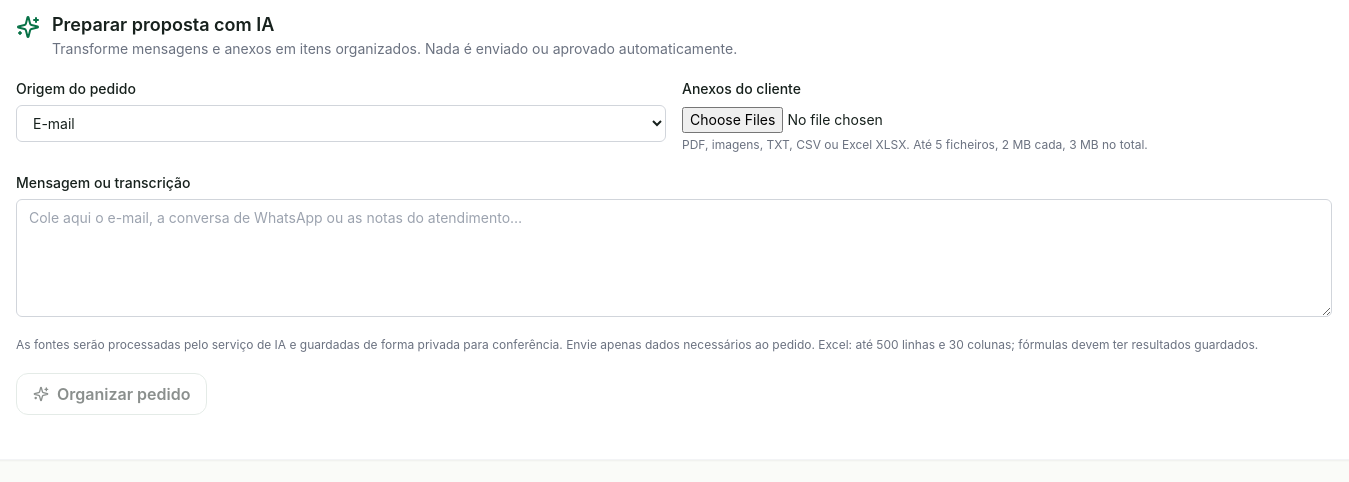
Scenario: ProposalAssistant › keeps the manual path available if AI is not configured
Replace the text in the text box labelled "Mensagem ou transcrição" with "200 cartões" at (674,258), box left=16, top=199, right=1332, bottom=317
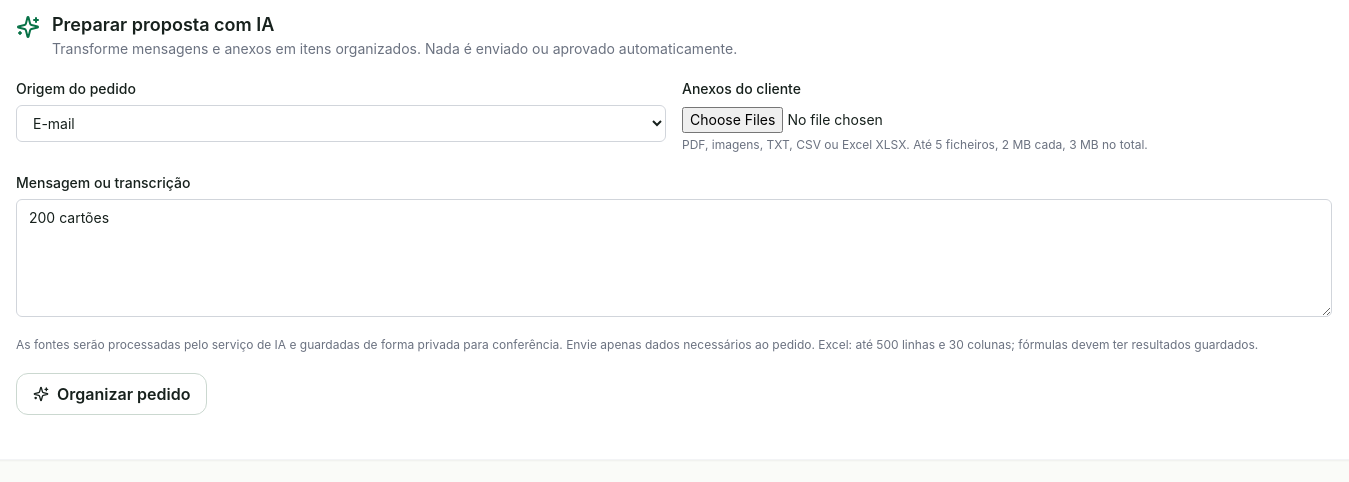
Click the button "Organizar pedido".
click(112, 394)  # box left=16, top=373, right=207, bottom=415
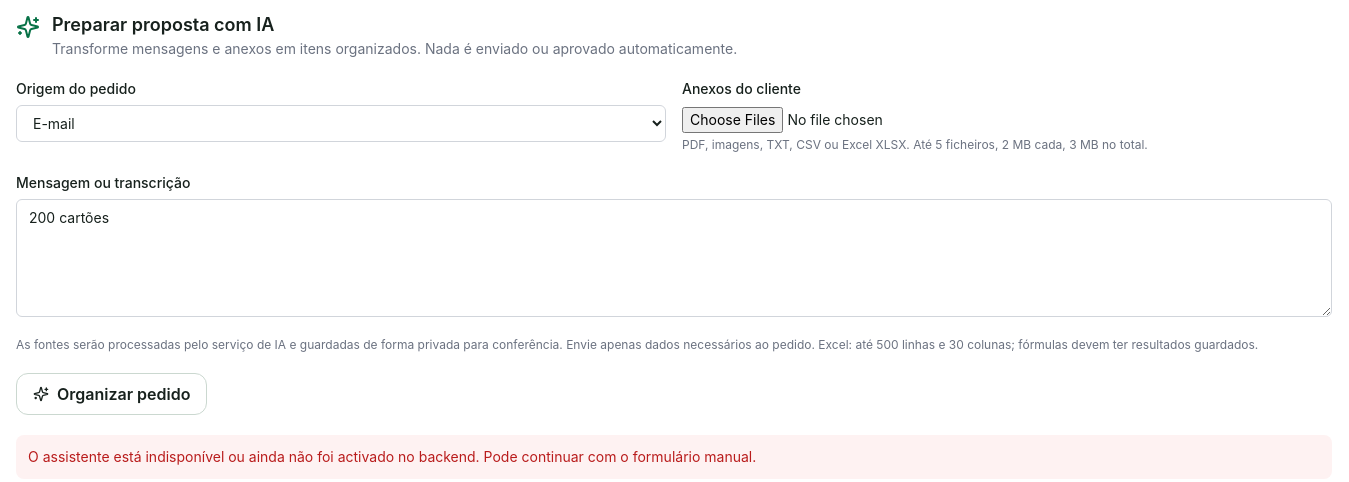
Result: the message shows "formulário manual" at left=28, top=448, right=756, bottom=465
